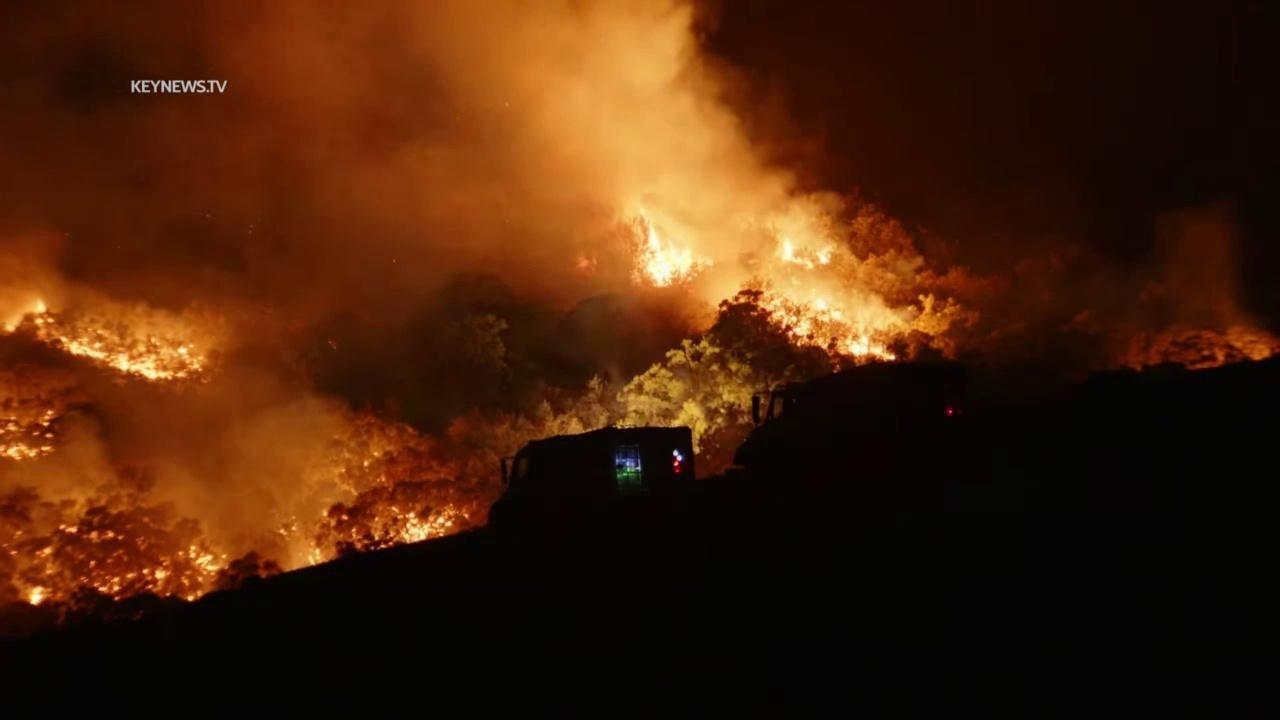fire: (31, 316, 213, 381), (756, 290, 897, 363), (90, 545, 230, 605), (628, 220, 716, 290), (366, 501, 469, 551), (0, 405, 63, 463), (776, 237, 834, 271), (23, 583, 49, 608), (36, 298, 50, 313)
smoke: (0, 0, 1250, 642)
